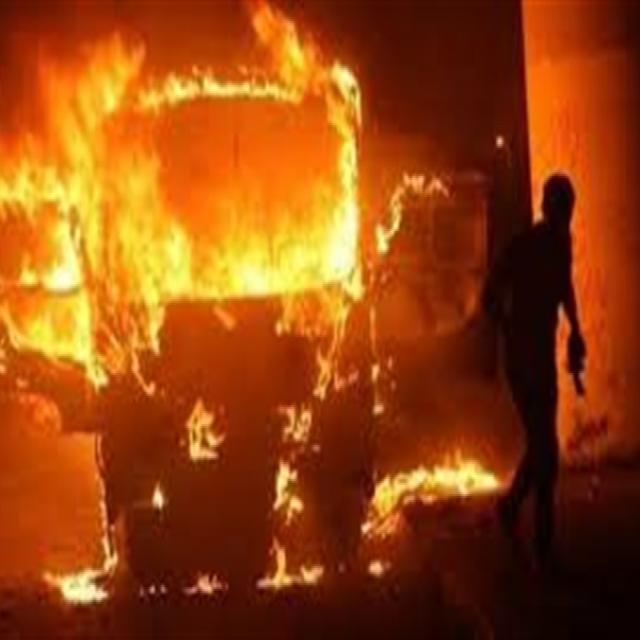Fire: (0, 0, 505, 590)
